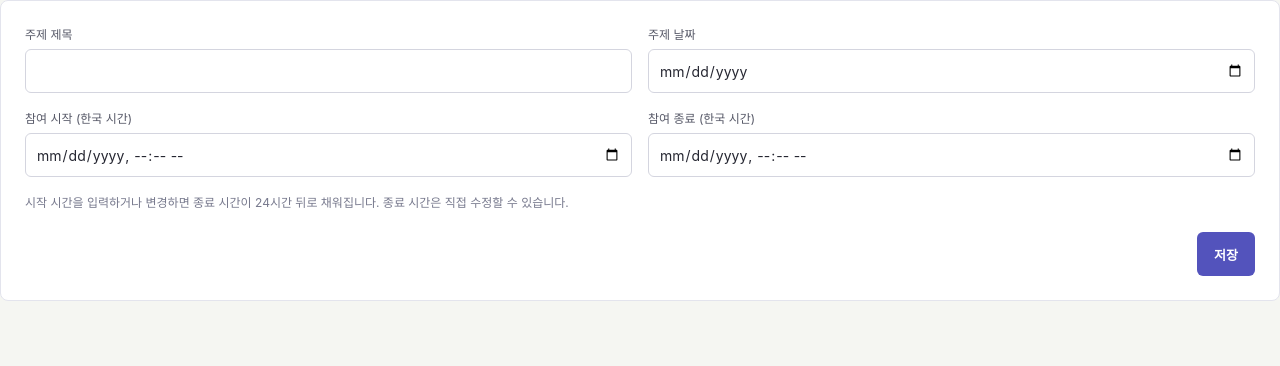
Test case: topic management screens › validates the topic date against the Korean start date
In the field labelled "주제 제목": (328, 71) [25, 49, 632, 93], type "새 주제"
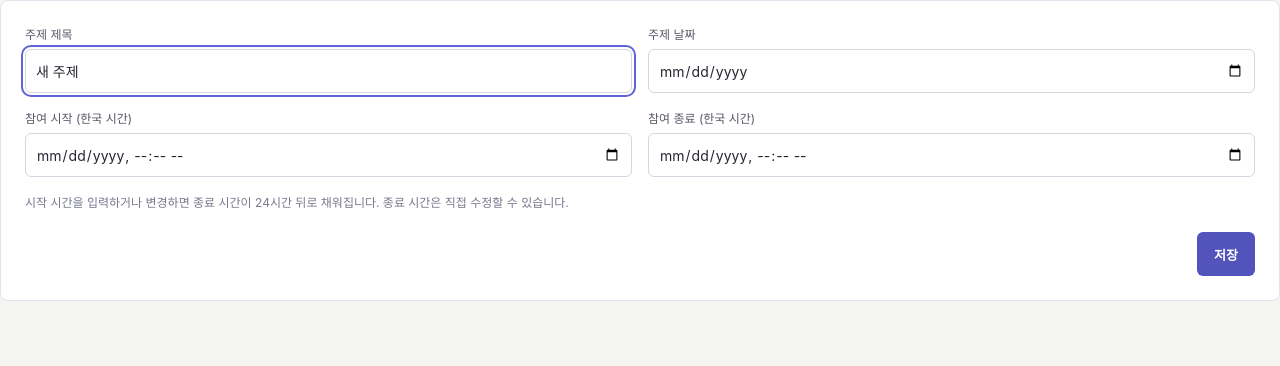
In the date field labelled "주제 날짜": (952, 71) [648, 49, 1255, 93], type "2099-10-02"
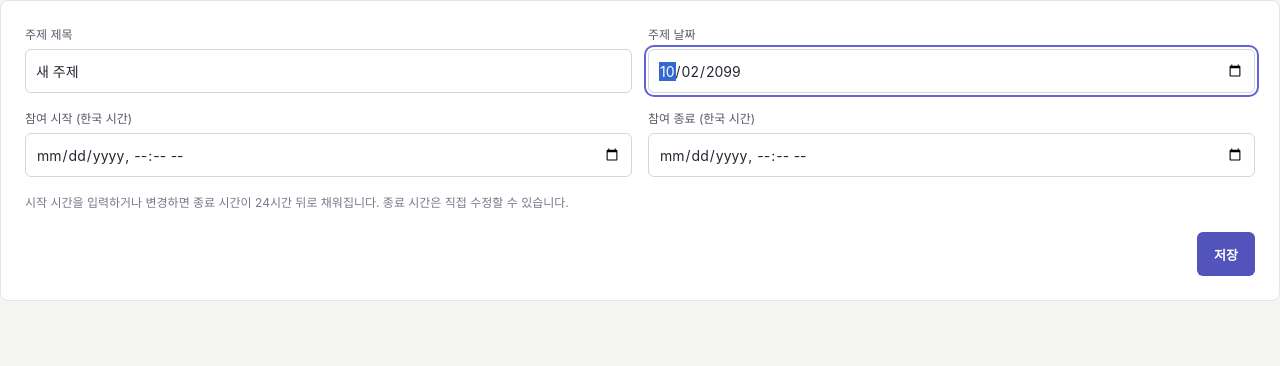
In the field labelled "참여 시작": (328, 155) [25, 133, 632, 177], type "2099-10-01T00:00"
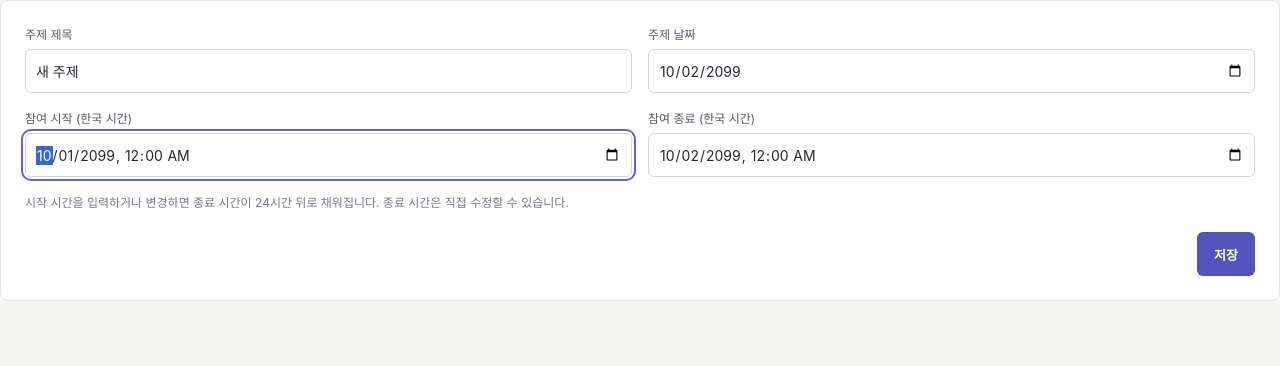
In the field labelled "참여 종료": (952, 155) [648, 133, 1255, 177], type "2099-10-01T23:59"
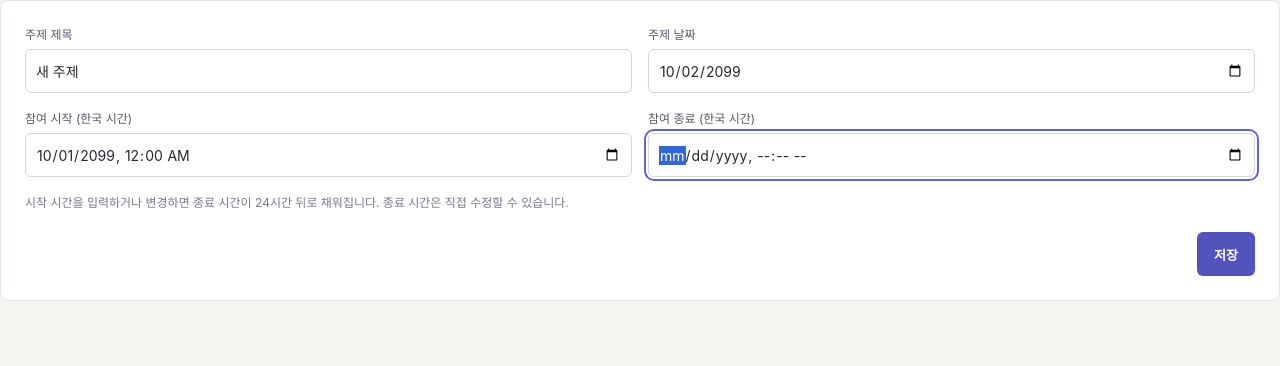
Click the button "저장": (1226, 254) [1197, 232, 1255, 276]
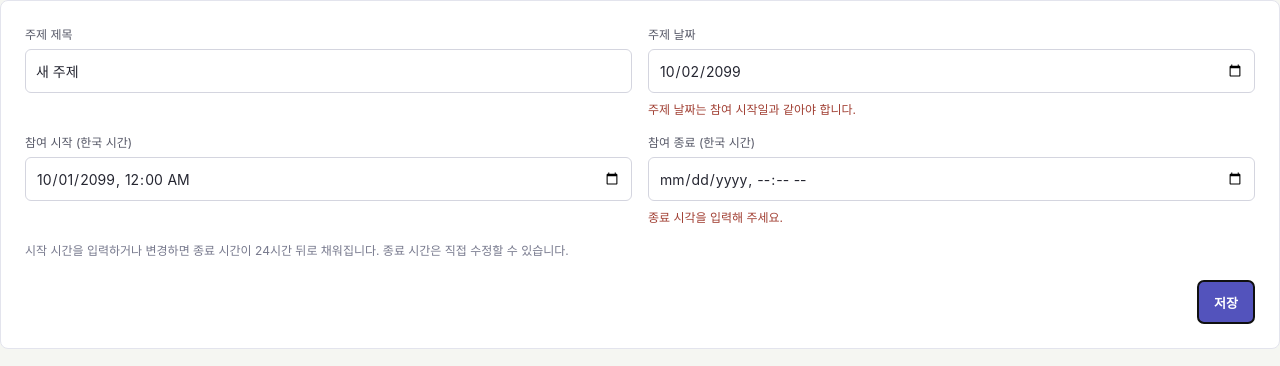
Expected: the text "주제 날짜는 참여 시작일과 같아야 합니다." is shown, [648, 102, 856, 117]
